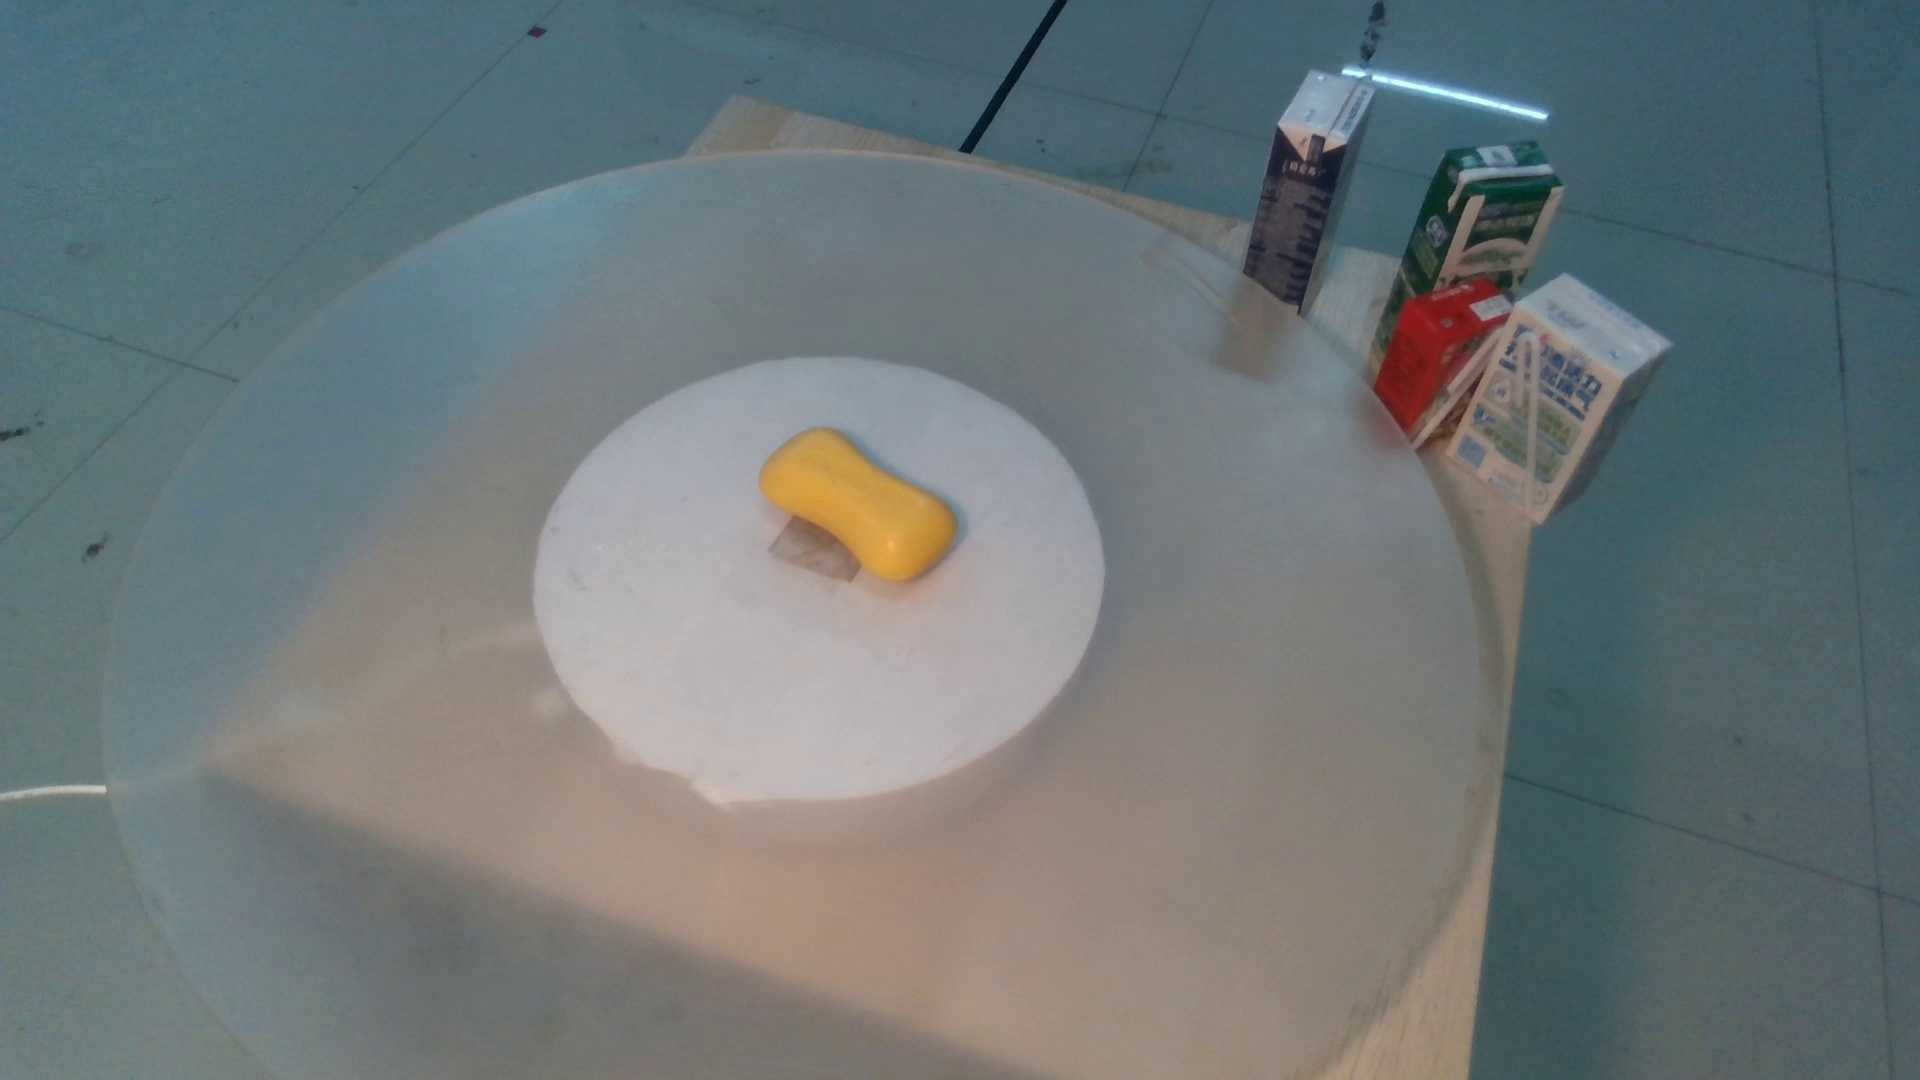CA003_1: (727, 426, 992, 609)
